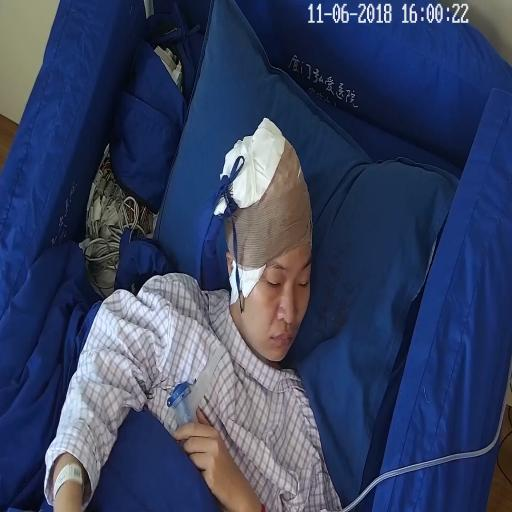Seizure: (212, 119, 315, 367)
